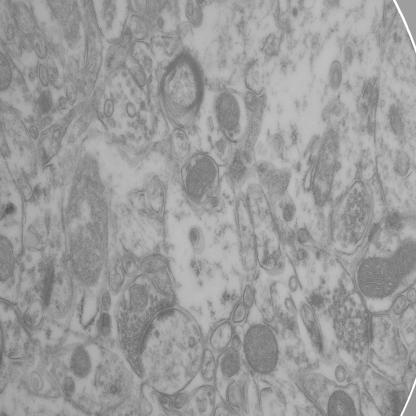mitochondria: (355, 237, 416, 301), (241, 320, 282, 378), (184, 155, 218, 204), (217, 90, 241, 135), (70, 341, 95, 379), (221, 348, 242, 378)
